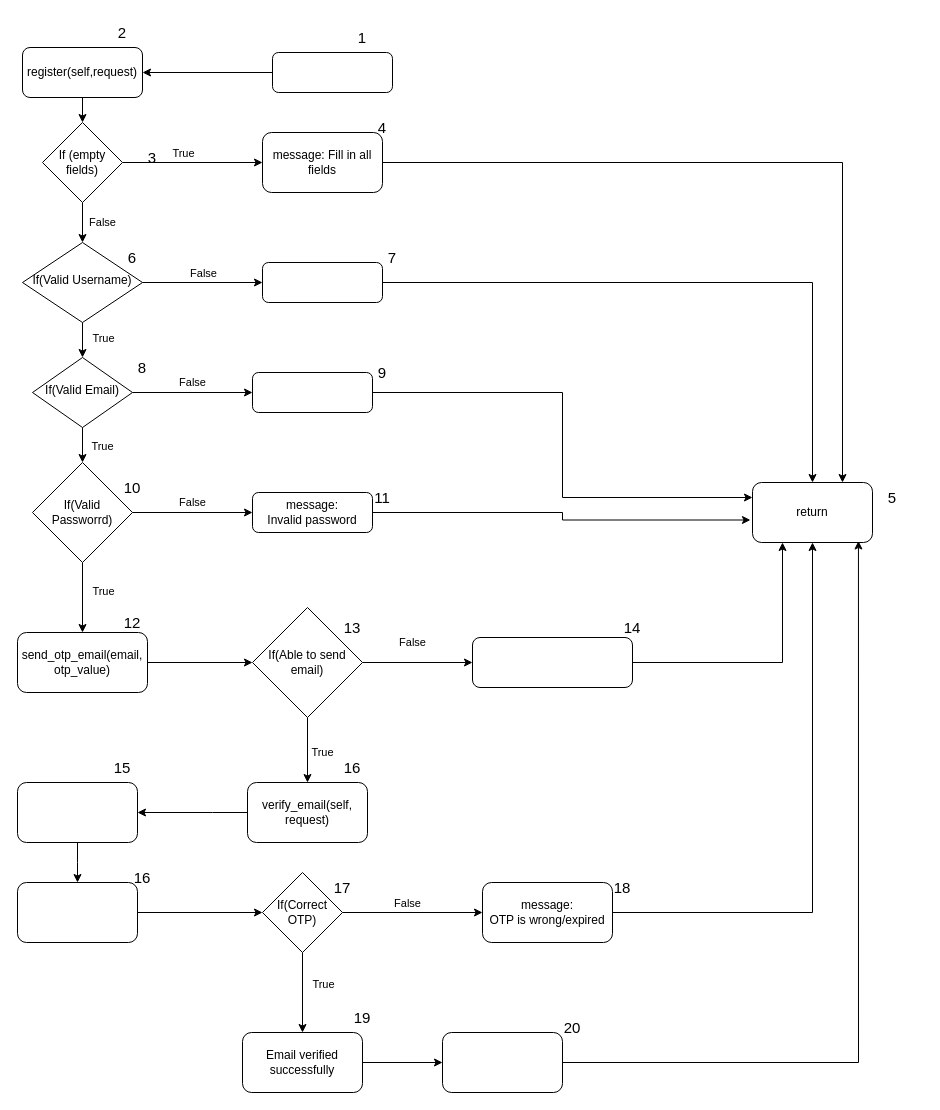
Some shapes in this 940 by 1110 pixel diagram are drawn without their labels. The centre of each missing label's shape, as x and y in pixels:
"login(self,request)" belongs at [502,1062].
"message: Failed to send OTP email. Try again later" belongs at [552,662].
"message: Invalid email format" belongs at [312,392].
"message: Username already exists" belongs at [322,282].
"OTP.verify(otp)" belongs at [77,912].
"Register new account" belongs at [332,72].
"User inputs OTP" belongs at [77,812].
